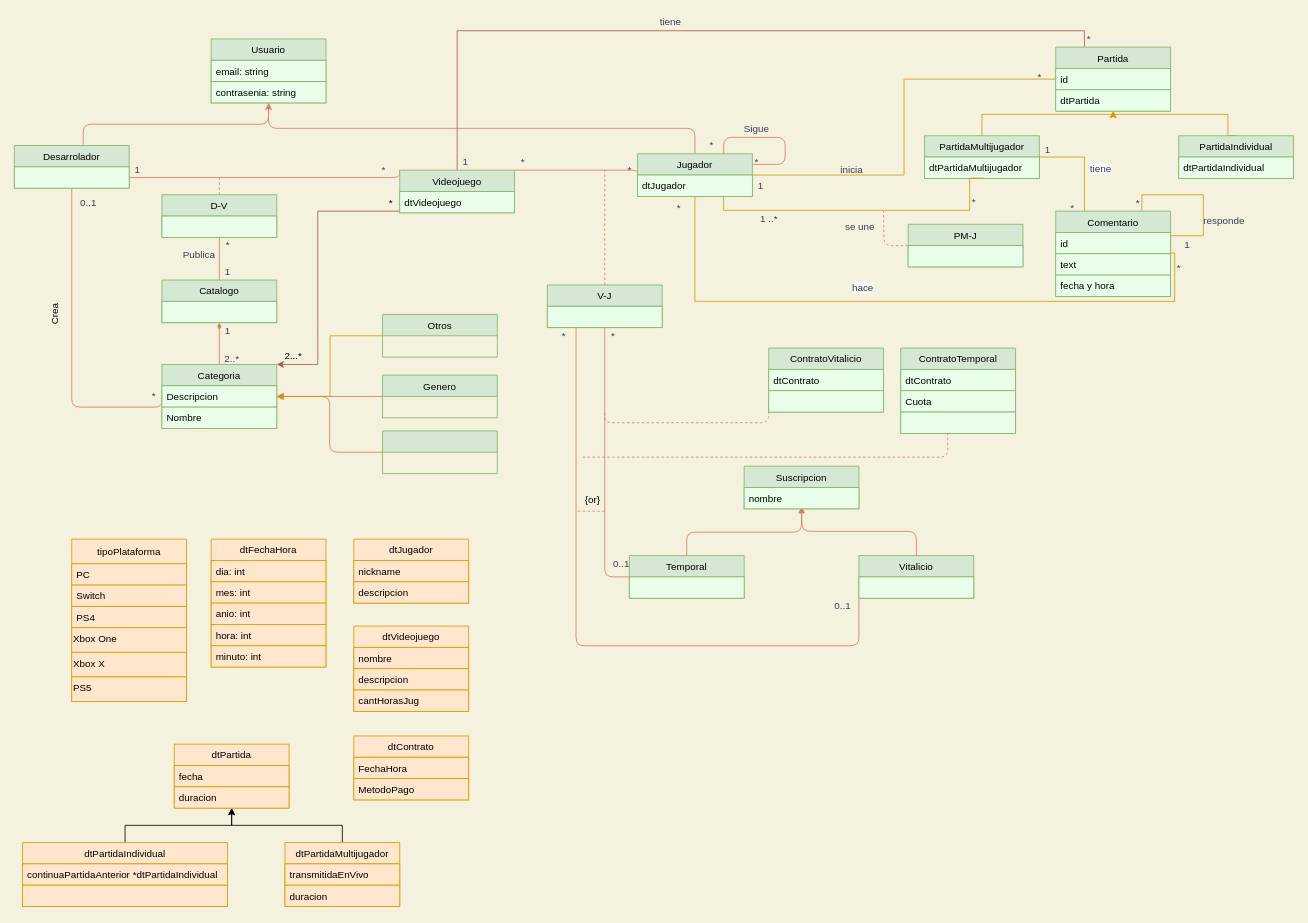
The diagram is 1308 pixels wide and 923 high, and some of its shapes have lost their labels. The shapes that lost their labels are listed below. From the top down, each one's centre as x and y in pixels, then its label:
(71,177): nombreEmpresa: string
(965,256): horaSalida
(604,316): Puntaje
(826,401): Costo
(958,422): Activo
(439,452): Plataforma
(686,587): Periodo
